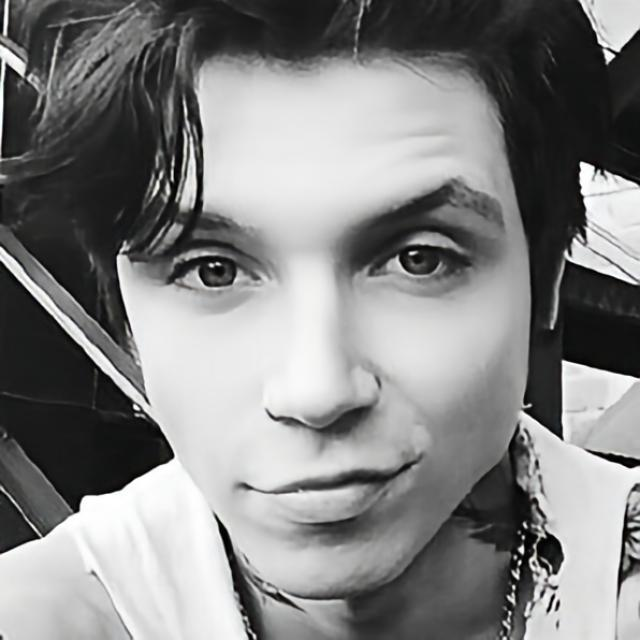content: (114, 46, 532, 606)
